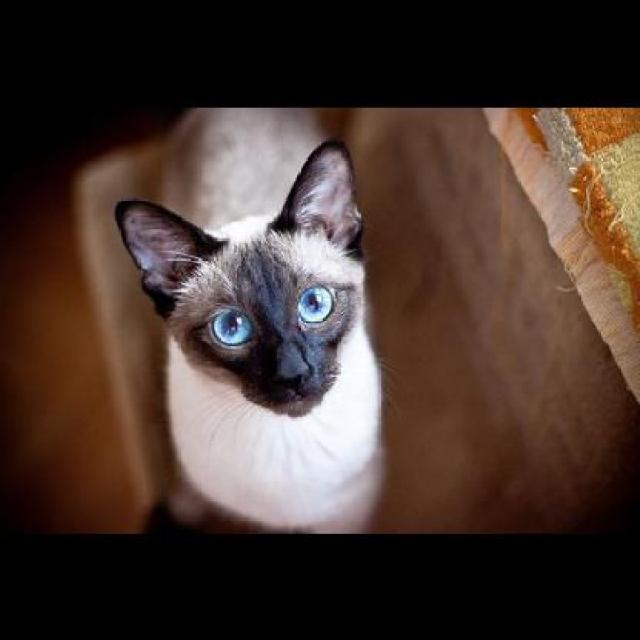unauthorized: (113, 134, 390, 534)
